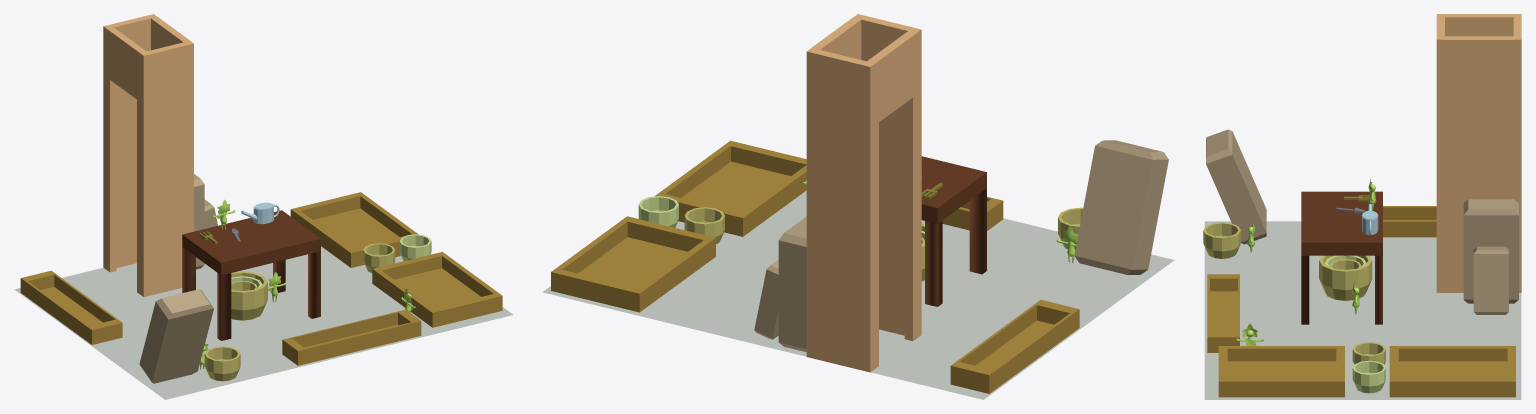
File: S_SerreMeublé (4).glb
3 renders of one model, left to right at view 1: azimuth 30°, elevation 25°; view 2: azimuth 150°, elevation 25°; view 3: azimuth 270°, elevation 25°, orthographic. The views are drawn at different scales.
Parts seen in each view (by area): view 1: S_Ground, Plane.011, S_Table.001, S_garden_02, Plane.007, S_garden_01, S_BagOfSoil_02, Plane.012, S_garden_02.001, S_garden_02.002, S_LargePlantPot, S_PlantPot_04 (+5 smaller); view 2: S_Ground, Plane.007, S_garden_01, S_BagOfSoil_02, Plane.011, S_garden_02, Plane.012, S_garden_02.002, S_Table.001, S_BagOfSoil_01, S_BagOfSoil_01.001, Plane.013 (+4 smaller); view 3: S_Ground, Plane.013, S_garden_02, S_garden_01, S_Table.001, S_BagOfSoil_02, S_BagOfSoil_01, Plane.011, S_BagOfSoil_01.001, S_garden_02.001, Plane.007, S_garden_02.002 (+6 smaller).
Boxes of the visible parts, x1=… form: S_Ground: x1=14, y1=246, x2=513, y2=399; Plane.011: x1=140, y1=41, x2=193, y2=296; S_Table.001: x1=182, y1=210, x2=320, y2=340; S_garden_02: x1=372, y1=252, x2=502, y2=327; Plane.007: x1=103, y1=14, x2=156, y2=269; S_garden_01: x1=290, y1=192, x2=418, y2=267; S_BagOfSoil_02: x1=139, y1=289, x2=213, y2=383; Plane.012: x1=107, y1=27, x2=146, y2=293; S_garden_02.001: x1=282, y1=309, x2=421, y2=365; S_garden_02.002: x1=20, y1=270, x2=122, y2=344; S_LargePlantPot: x1=231, y1=271, x2=267, y2=320; S_PlantPot_04: x1=204, y1=346, x2=240, y2=381; S_Ground: x1=542, y1=190, x2=1174, y2=399; Plane.007: x1=806, y1=48, x2=875, y2=372; S_garden_01: x1=551, y1=216, x2=715, y2=312; S_BagOfSoil_02: x1=1074, y1=140, x2=1168, y2=274; Plane.011: x1=853, y1=14, x2=921, y2=338; S_garden_02: x1=655, y1=140, x2=806, y2=236; Plane.012: x1=867, y1=31, x2=916, y2=368; S_garden_02.002: x1=950, y1=300, x2=1079, y2=393; S_Table.001: x1=921, y1=156, x2=986, y2=306; S_BagOfSoil_01: x1=778, y1=216, x2=806, y2=352; S_BagOfSoil_01.001: x1=754, y1=259, x2=778, y2=339; Plane.013: x1=811, y1=17, x2=861, y2=59; S_Ground: x1=1204, y1=221, x2=1521, y2=399; Plane.013: x1=1444, y1=36, x2=1513, y2=292; S_garden_02: x1=1218, y1=346, x2=1344, y2=397; S_garden_01: x1=1389, y1=346, x2=1515, y2=397; S_Table.001: x1=1301, y1=191, x2=1382, y2=324; S_BagOfSoil_02: x1=1206, y1=129, x2=1266, y2=244; S_BagOfSoil_01: x1=1463, y1=199, x2=1518, y2=303; Plane.011: x1=1436, y1=14, x2=1444, y2=292; S_BagOfSoil_01.001: x1=1473, y1=246, x2=1508, y2=314; S_garden_02.001: x1=1207, y1=274, x2=1239, y2=352; Plane.007: x1=1513, y1=14, x2=1521, y2=292; S_garden_02.002: x1=1383, y1=206, x2=1436, y2=237.
Bounding box in the file's own units: 4 × 2.66 × 3.01.
